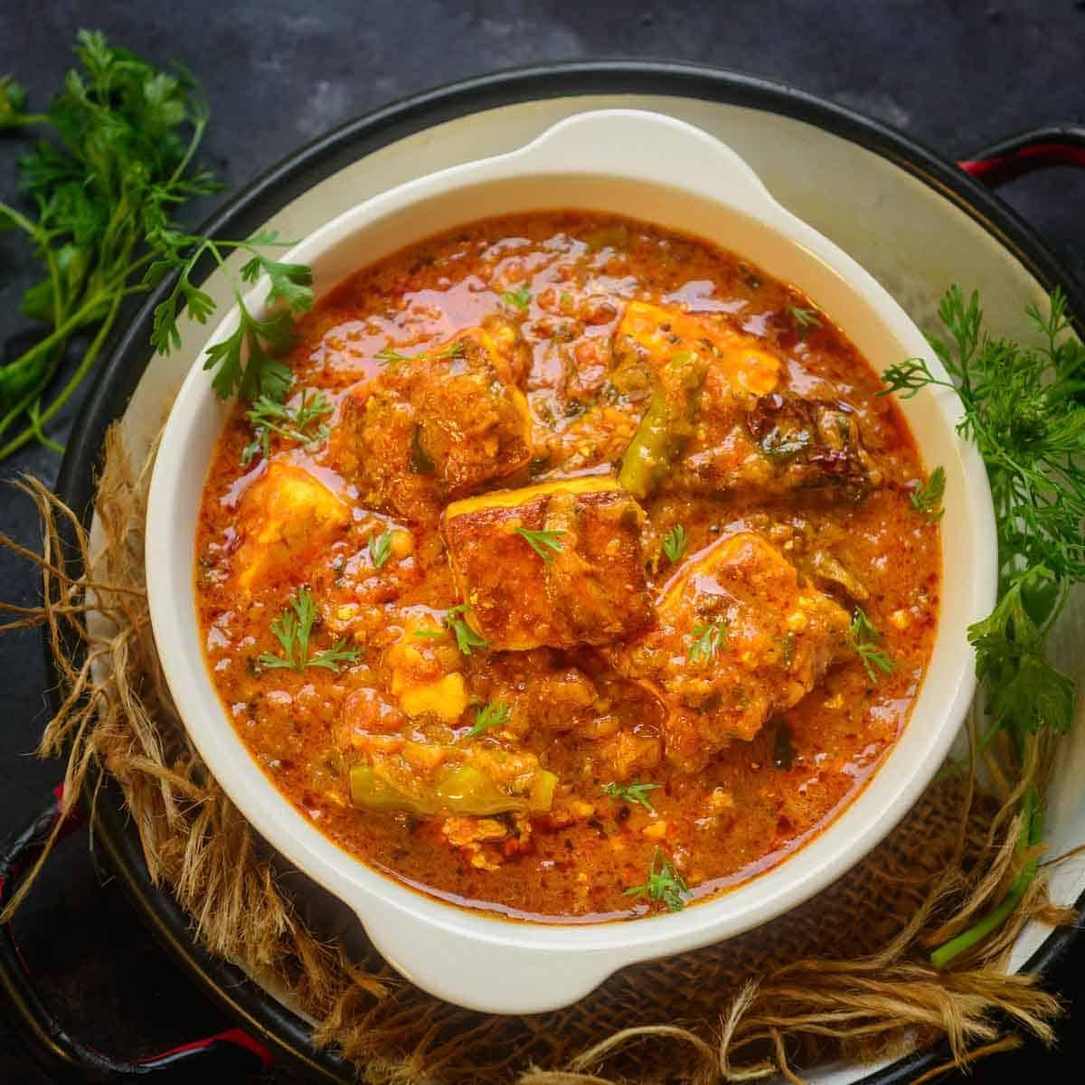paneer: (348, 360, 796, 794)
